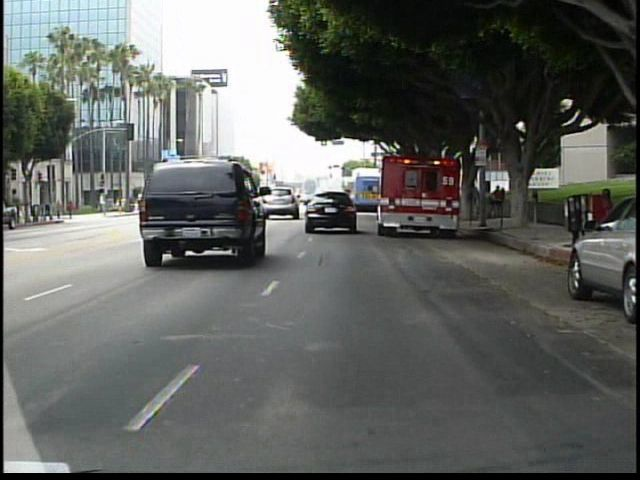person: (490, 183, 504, 220), (65, 196, 78, 222), (54, 197, 65, 221)
